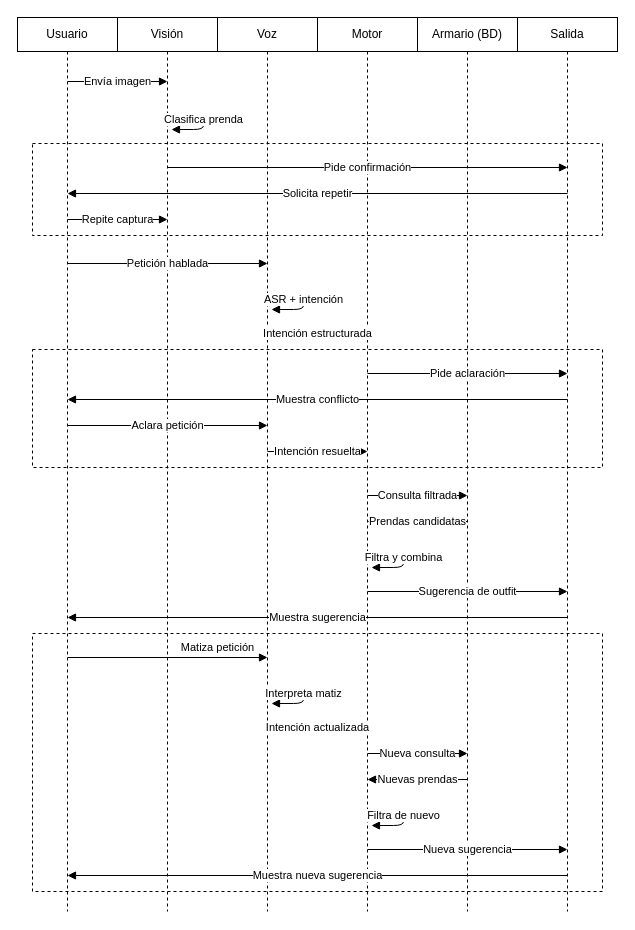
Some shapes in this 635 by 930 pixel diagram are drawn without their labels. Here are the shapes that lost their labels. From the top down, the centre of each, then its label:
At (x=317, y=189): "alt [confianza baja]".
At (x=317, y=408): "alt [contradicción voz-visión]".
At (x=317, y=762): "loop [el usuario matiza]".
